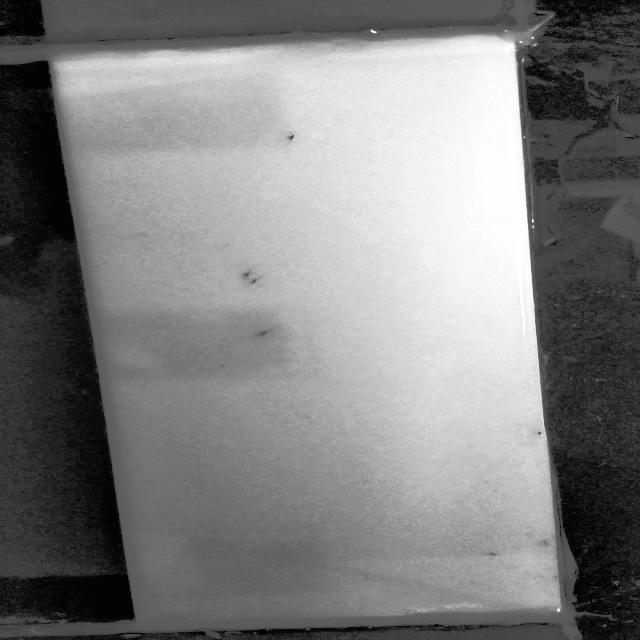shrimp: (278, 127, 306, 145), (250, 327, 283, 339), (483, 550, 516, 562), (239, 274, 274, 285), (531, 428, 553, 440), (537, 536, 553, 550), (235, 271, 257, 278)
